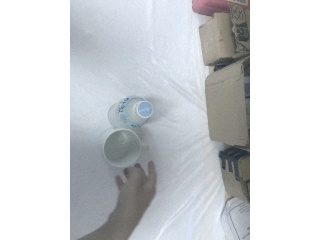bottle: (108, 96, 153, 128)
box: (204, 56, 250, 148), (200, 13, 235, 65), (220, 146, 249, 202)
cup: (100, 127, 149, 169)
